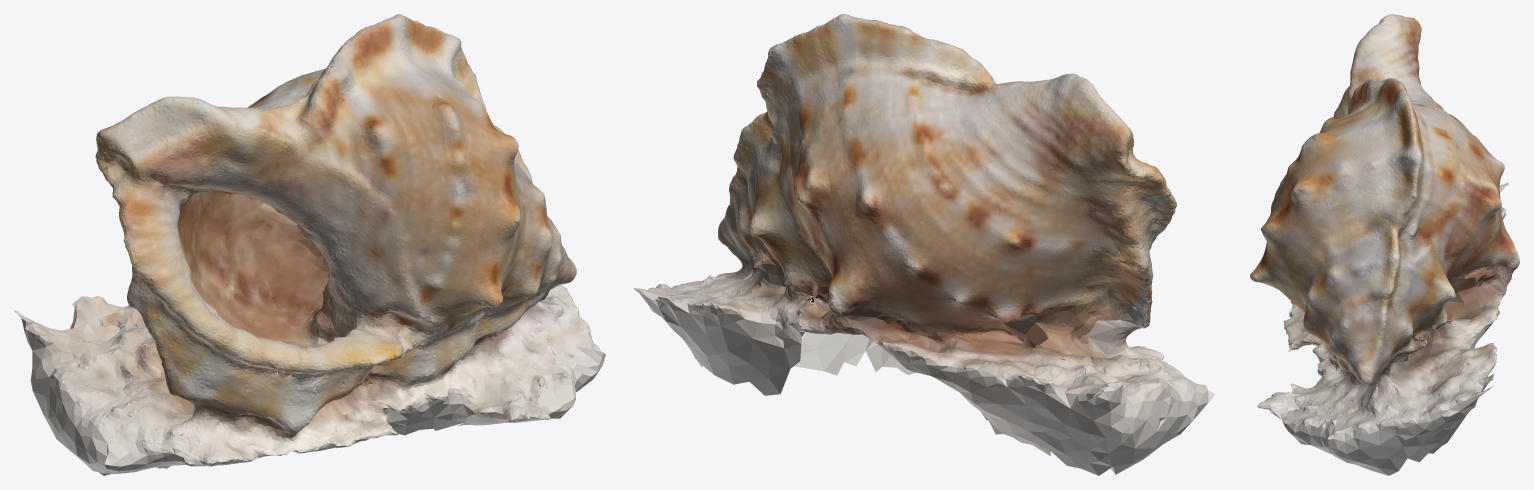
File: Seashellfbx.fbx
3 renders of one model, left to right at view 1: azimuth 30°, elevation 25°; view 2: azimuth 150°, elevation 25°; view 3: azimuth 270°, elevation 25°, orthographic. The views are drawn at different scales.
Visible parts, largest first — view 1: texturedMesh.001; view 2: texturedMesh.001; view 3: texturedMesh.001.
Boxes of the visible parts, x1,y1,x2,y2 form: texturedMesh.001: (14, 14, 605, 475); texturedMesh.001: (634, 14, 1214, 475); texturedMesh.001: (1250, 14, 1519, 475).
Size of the model in its own units: 54.4 by 41.1 by 30.66.
1 material, 1 textured.
